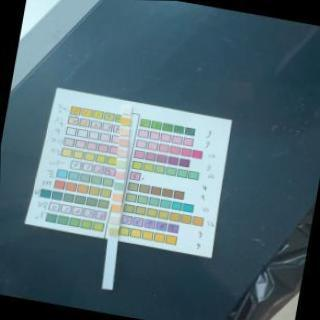mark: (110, 215, 119, 225), (122, 106, 132, 114), (122, 117, 130, 126), (110, 227, 118, 236), (120, 138, 128, 146), (120, 128, 128, 136), (116, 172, 124, 180), (114, 182, 122, 190), (114, 194, 122, 202), (112, 204, 120, 212), (120, 150, 126, 158), (117, 161, 125, 167)
